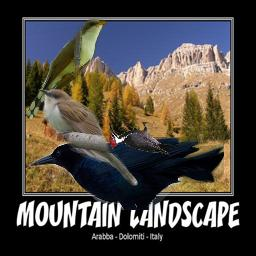Crow: (29, 137, 224, 210)
Cuckoo: (38, 89, 138, 186), (27, 19, 108, 119)
Woodpecker: (109, 122, 177, 155)
